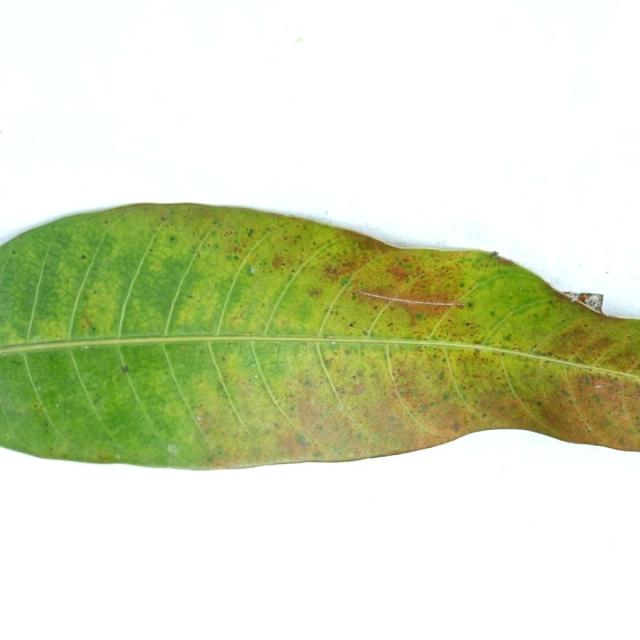Mango: (0, 204, 639, 468)
Powdery_Mildew: (274, 430, 314, 458), (592, 376, 632, 402), (586, 337, 622, 359), (193, 411, 218, 434), (317, 348, 333, 383), (495, 327, 515, 344), (242, 223, 260, 240), (238, 262, 258, 276), (164, 233, 182, 247), (453, 281, 472, 293), (462, 298, 477, 312), (350, 383, 366, 395), (307, 286, 323, 298), (96, 452, 115, 462), (472, 337, 489, 348), (487, 308, 500, 321), (231, 245, 244, 257), (324, 265, 338, 276), (347, 290, 359, 302), (450, 421, 461, 431), (582, 375, 592, 386), (340, 277, 351, 287), (561, 389, 571, 397), (223, 230, 234, 237), (438, 371, 446, 380), (592, 394, 601, 402), (303, 379, 312, 387), (33, 402, 42, 410), (442, 392, 450, 400), (405, 273, 412, 282), (290, 404, 299, 411), (415, 313, 424, 320), (273, 422, 281, 429), (535, 400, 543, 407), (351, 374, 357, 380), (93, 398, 99, 404), (407, 410, 413, 416), (465, 322, 472, 327), (161, 216, 168, 221), (187, 294, 194, 299), (425, 336, 431, 341), (548, 300, 554, 305), (328, 310, 335, 314), (196, 253, 201, 258), (91, 326, 96, 331), (81, 254, 86, 259), (482, 413, 487, 418), (291, 268, 296, 272), (200, 350, 205, 354), (222, 356, 226, 361), (44, 422, 49, 426), (12, 250, 16, 254), (104, 220, 109, 223), (148, 249, 152, 252)
